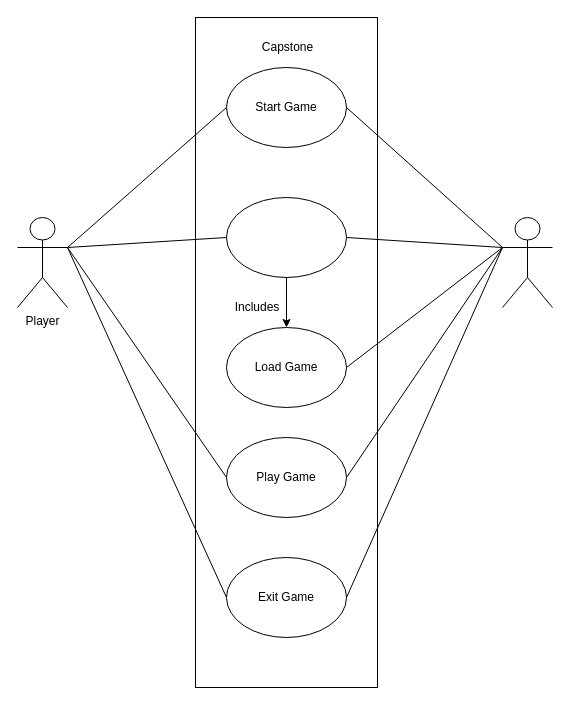
Image size: 570x705. Some labels were removed from this diagram. The centre of each missing label's shape, as x and y in pixels:
Game: the point at 527,262
Select Settings (Character, Stage, Options): the point at 286,237
